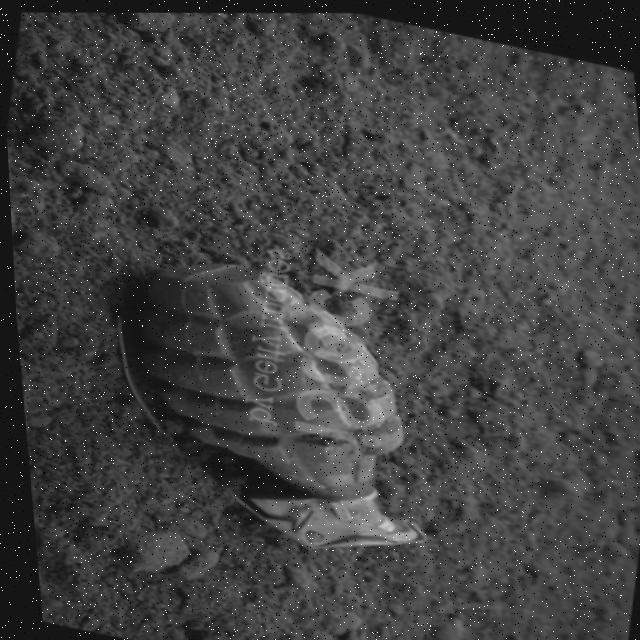grenade: (65, 227, 480, 580)
